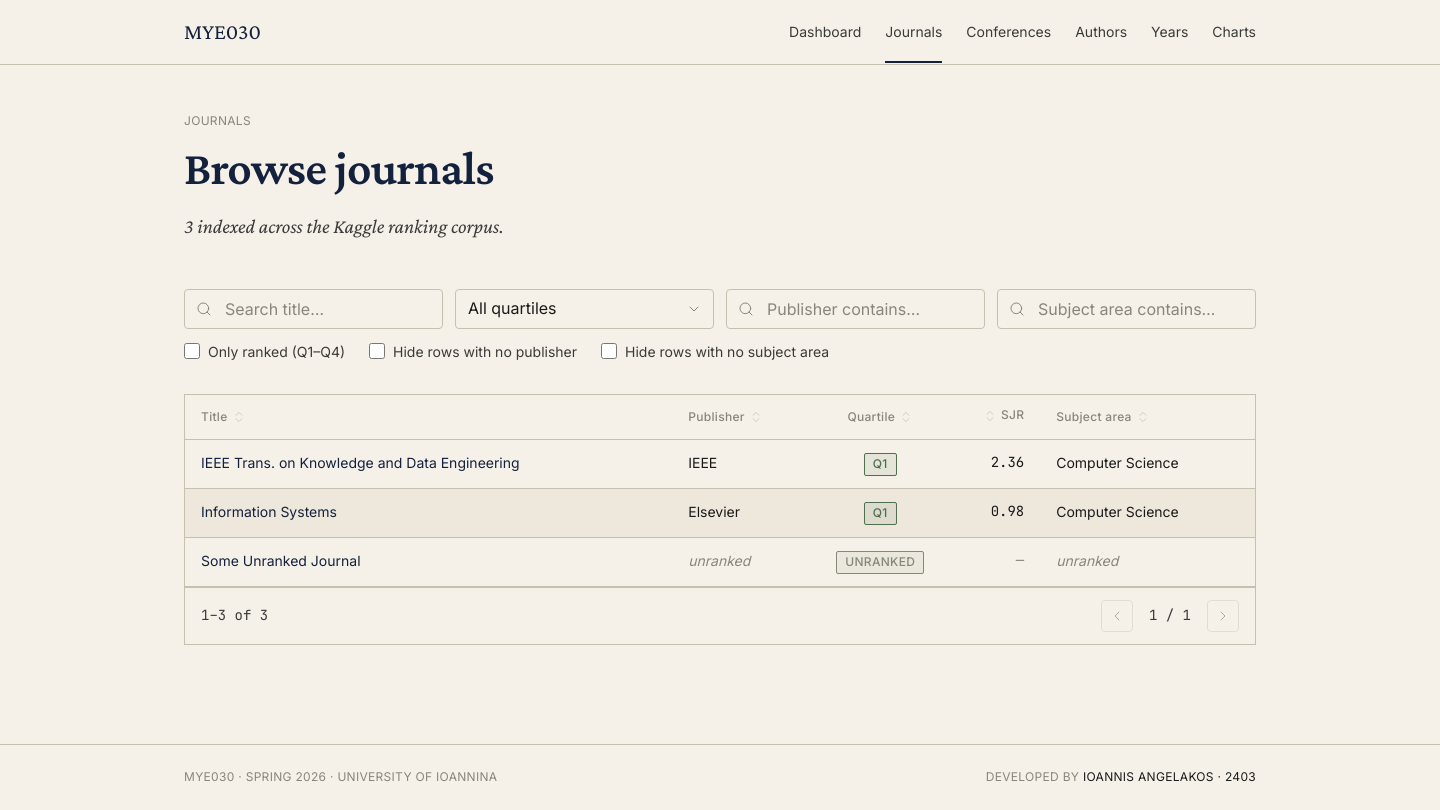
/journals list › filters out unranked journals when the checkbox is toggled
The image size is (1440, 810).
Check: the link "Some Unranked Journal" is shown, box top-left (201, 552), bottom-right (361, 569)
Step 1. Click the checkbox labelled "Only ranked (Q1–Q4)" → (192, 351), box top-left (184, 343), bottom-right (200, 359)
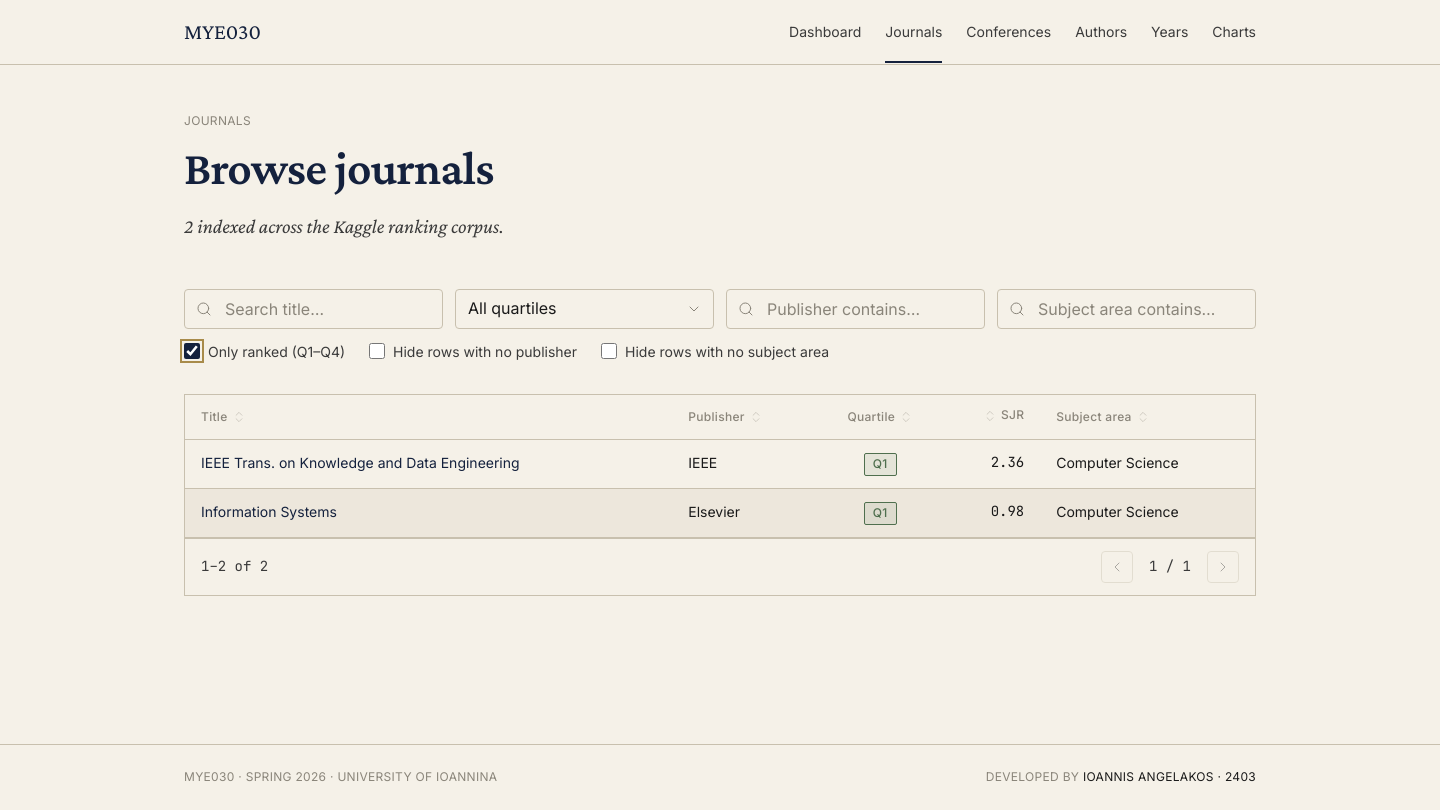
Check: the link "Some Unranked Journal" is gone
